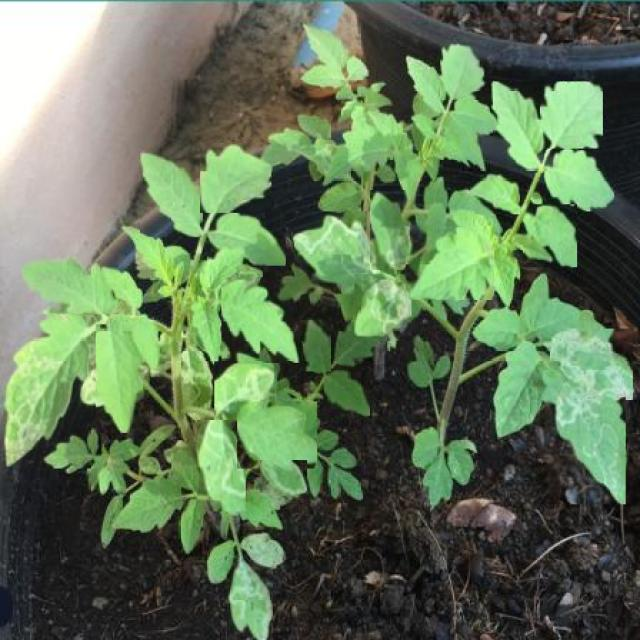Healthy: (222, 278, 302, 362), (406, 226, 495, 300), (22, 254, 119, 314), (140, 150, 203, 237), (96, 324, 145, 433), (237, 402, 317, 468), (201, 143, 272, 213), (493, 82, 544, 174), (209, 208, 285, 266), (545, 150, 615, 211), (540, 82, 602, 148), (523, 205, 578, 268), (440, 42, 486, 100), (325, 368, 371, 416), (471, 173, 522, 214), (303, 318, 330, 372)
Leaf Miner: (3, 301, 101, 469), (541, 370, 626, 504), (294, 212, 380, 294), (551, 329, 633, 401), (197, 419, 246, 512), (354, 274, 412, 340), (227, 558, 273, 640), (371, 190, 416, 270), (215, 361, 274, 420), (260, 460, 307, 496)
